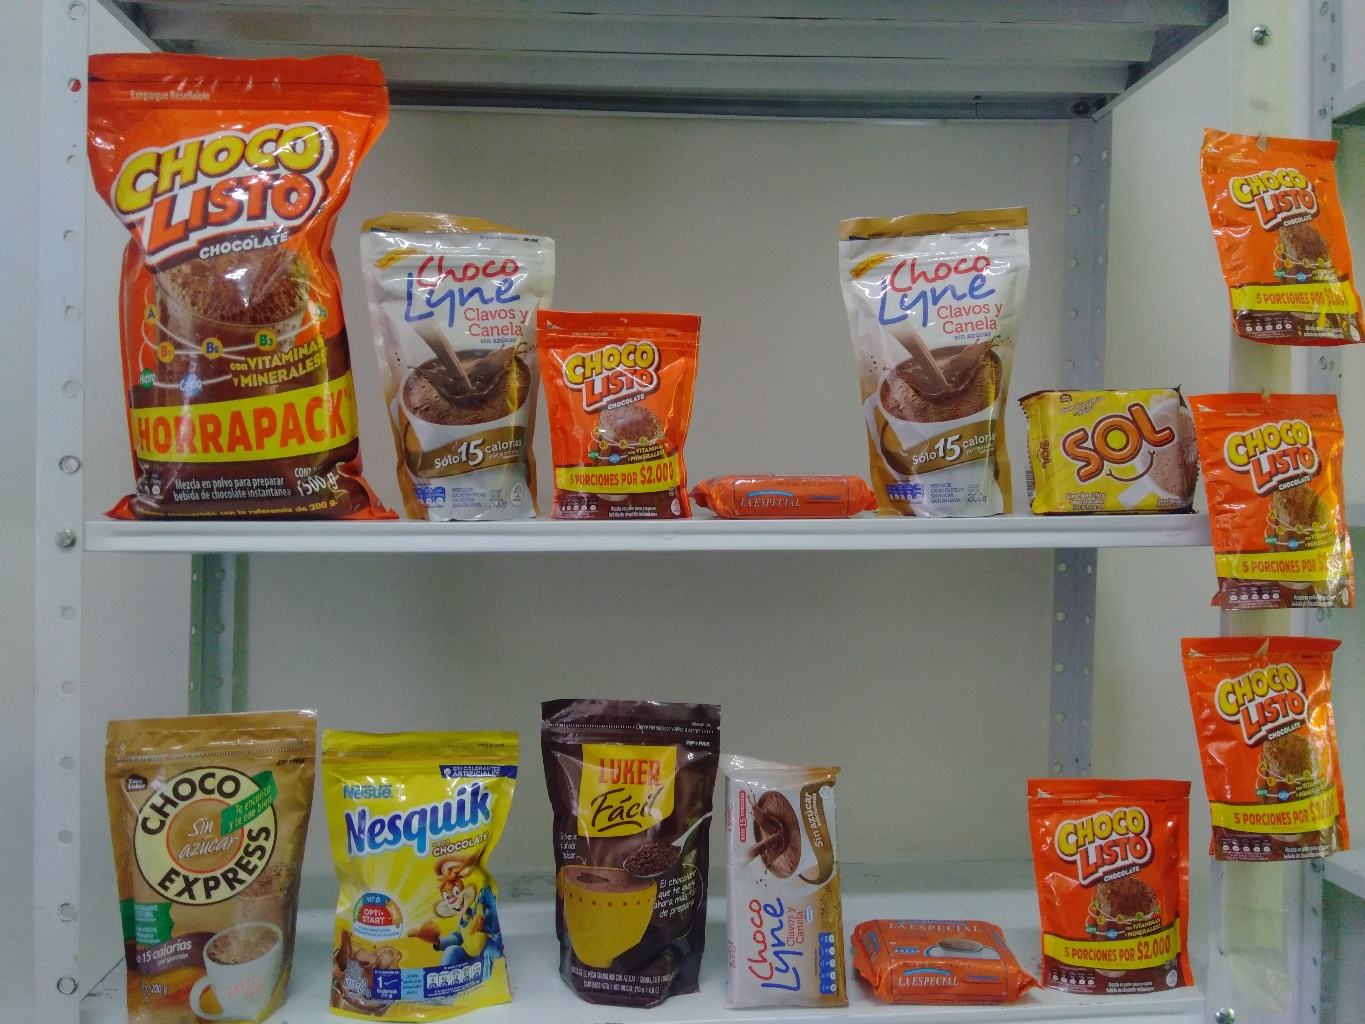COL0170303DYP20000: (309, 724, 524, 1006)
